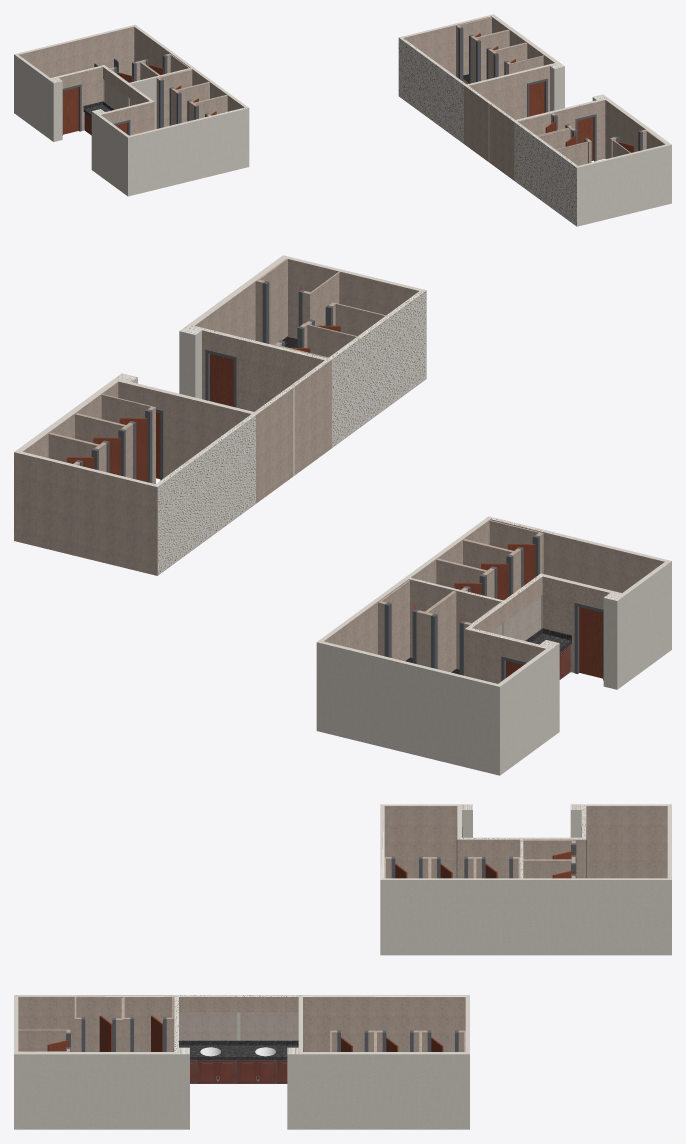
File: toilet 1.glb
3 views of the same model, one above another, from view 1: azimuth 30°, elevation 25°; view 2: azimuth 150°, elevation 25°; view 3: azimuth 270°, elevation 25° (orthographic). The views are drawn at different scales.
Visible parts, largest first — view 1: 立方体.062, 立方体.001, 立方体.003, 立方体.064, 立方体.066, 立方体.081, 立方体.005, 立方体.068, 立方体.082, 立方体.083, 立方体.074, 立方体.007 (+6 smaller); view 2: 立方体.062, 立方体.001, 立方体.085, 立方体.015, 立方体.013, 立方体.080, 立方体.083, 立方体.069, 立方体.067, 立方体.086, 立方体.008, 立方体.006 (+5 smaller); view 3: 立方体.062, 立方体.001, 立方体.086, 立方体.016, 立方体.014.
Part boxes in pixels (<box>): 立方体.062: <box>398,14,671,226</box>; 立方体.001: <box>14,24,249,196</box>; 立方体.003: <box>156,69,192,128</box>; 立方体.064: <box>456,17,491,79</box>; 立方体.066: <box>473,30,509,82</box>; 立方体.081: <box>62,84,81,135</box>; 立方体.005: <box>174,82,209,124</box>; 立方体.068: <box>491,43,527,78</box>; 立方体.082: <box>527,78,547,116</box>; 立方体.083: <box>575,114,596,161</box>; 立方体.074: <box>556,138,591,165</box>; 立方体.007: <box>192,95,227,120</box>; 立方体.062: <box>14,255,426,575</box>; 立方体.001: <box>316,516,671,775</box>; 立方体.085: <box>255,258,287,344</box>; 立方体.015: <box>424,591,456,672</box>; 立方体.013: <box>378,580,409,661</box>; 立方体.080: <box>574,602,603,680</box>; 立方体.083: <box>205,349,236,407</box>; 立方体.069: <box>101,394,155,483</box>; 立方体.067: <box>75,413,129,477</box>; 立方体.086: <box>298,271,340,326</box>; 立方体.008: <box>489,520,543,576</box>; 立方体.006: <box>463,539,516,596</box>; 立方体.062: <box>14,995,469,1129</box>; 立方体.001: <box>380,804,671,955</box>; 立方体.086: <box>18,1029,70,1051</box>; 立方体.016: <box>523,840,576,859</box>; 立方体.014: <box>523,860,576,878</box>.
Bounding box in the file's own units: 7.2 × 1.01 × 8.
9 materials, 7 textured.
